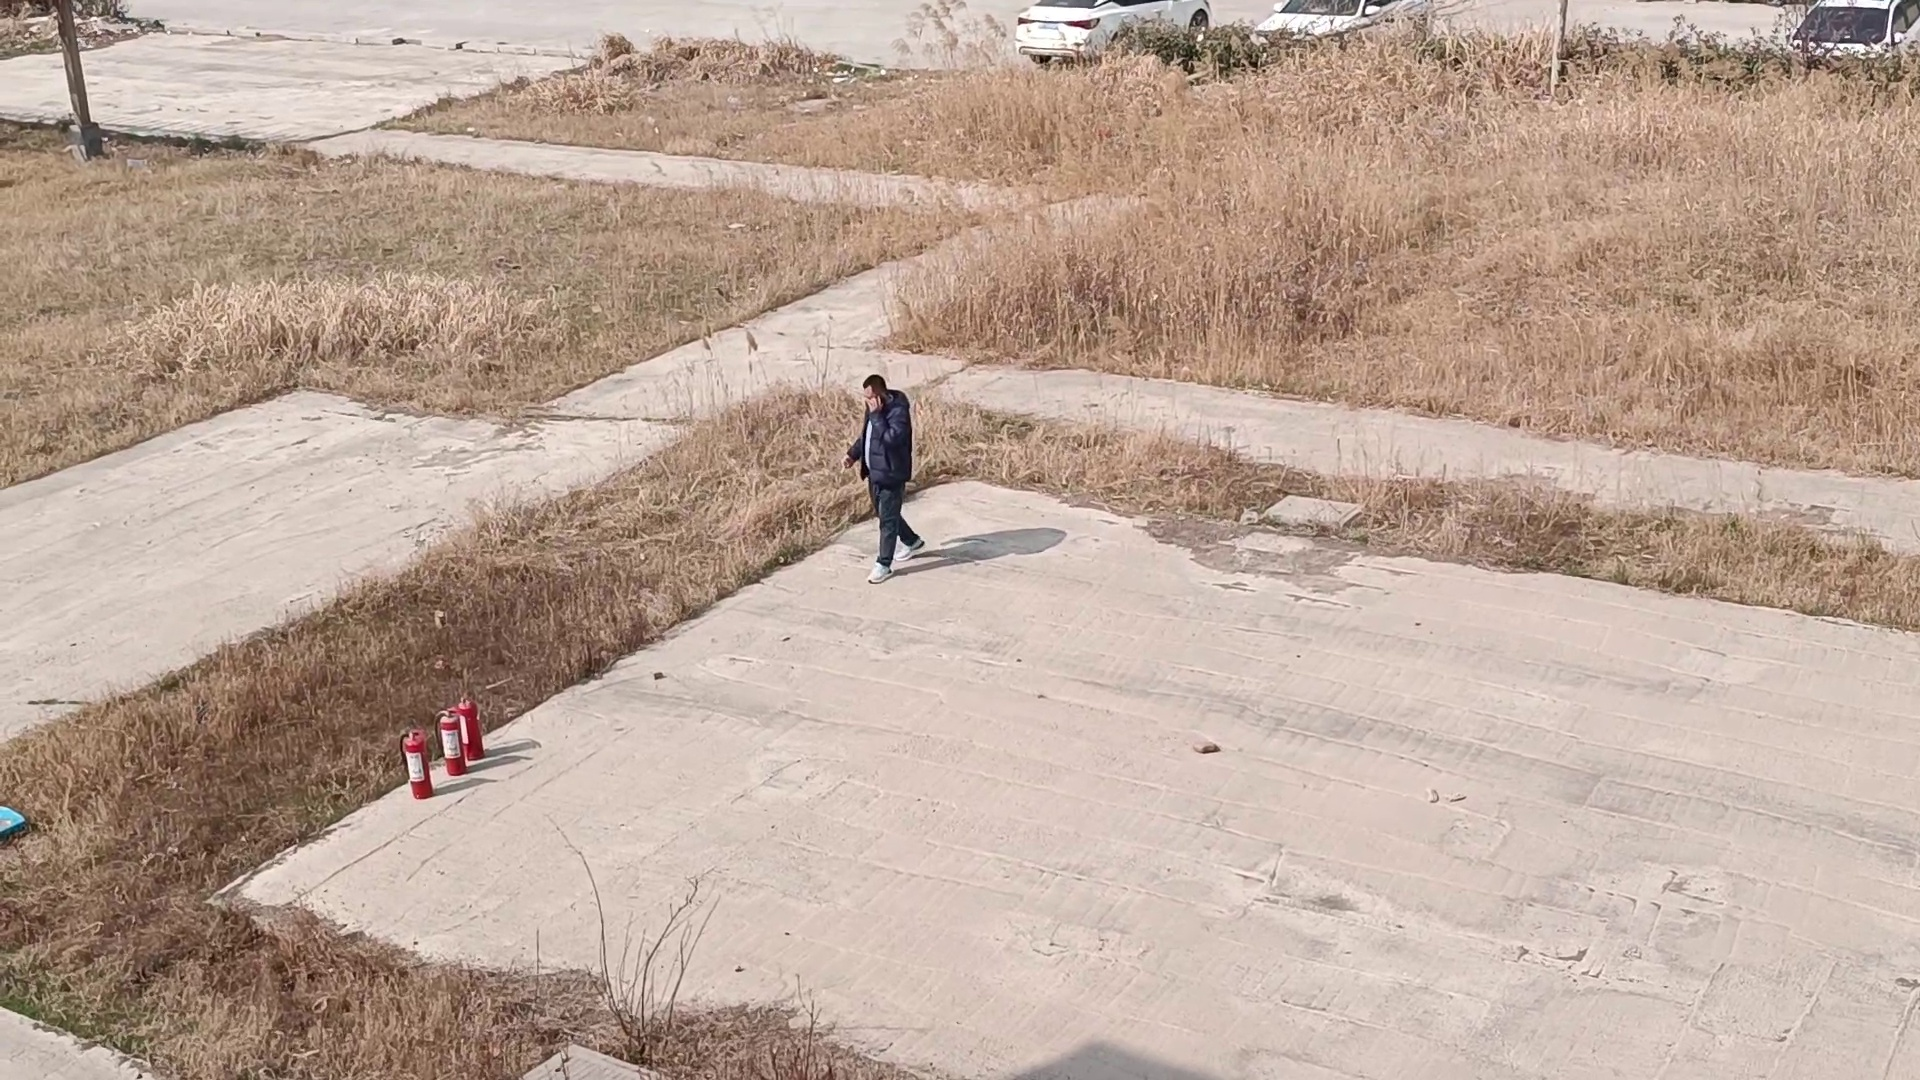phone: (847, 367, 895, 433)
